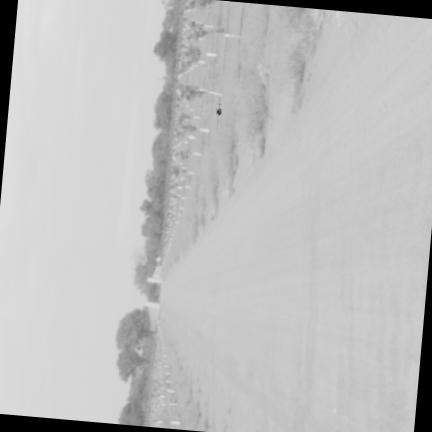Shahed: (215, 90, 222, 132)
